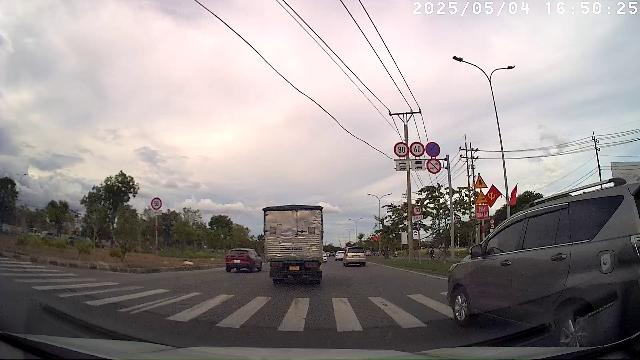127-toc-do-toi-da-50: (151, 197, 163, 210), (412, 205, 423, 216)
127-toc-do-toi-da-60: (409, 142, 425, 157)
127-toc-do-toi-da-80: (393, 141, 409, 157)
130-cam-dung-va-do-xe: (425, 142, 441, 157)
